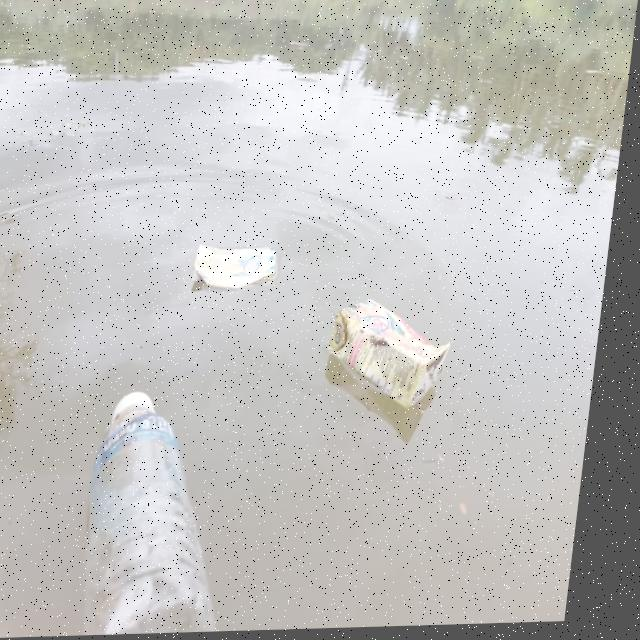paper: (317, 290, 462, 426), (165, 234, 297, 311)
waterbottle: (62, 355, 256, 637)
